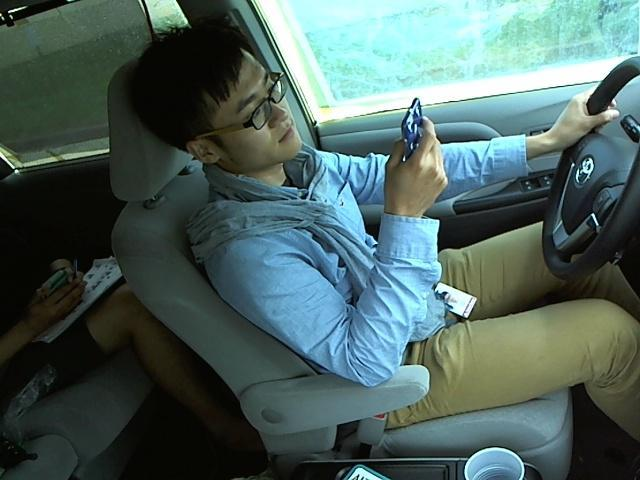PhoneUse: (393, 91, 430, 182)
